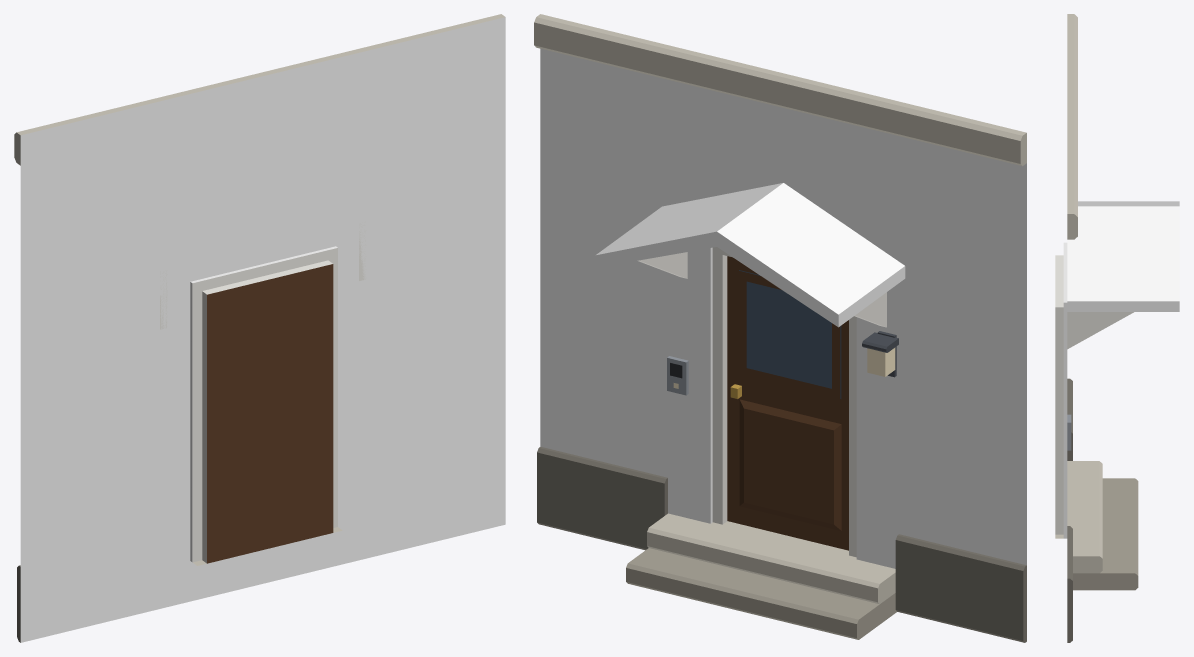
File: apt_ground_door.glb
3 renders of one model, left to right at view 1: azimuth 30°, elevation 25°; view 2: azimuth 150°, elevation 25°; view 3: azimuth 270°, elevation 25°, orthographic. The views are drawn at different scales.
Parts seen in each view (by area): view 1: apt_ground_door__mesh; view 2: apt_ground_door__mesh; view 3: apt_ground_door__mesh.
Part boxes in pixels (x1,y1,x2,y2): apt_ground_door__mesh: (14,14,505,642); apt_ground_door__mesh: (534,14,1026,642); apt_ground_door__mesh: (1055,14,1179,642).
Size of what is drawn, in the model's own units: 4 by 4 by 1.05.
2 materials, 1 textured.
